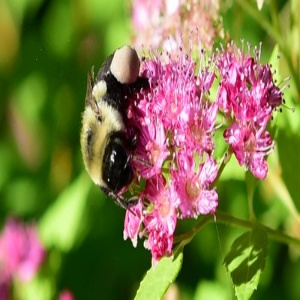bee: (78, 47, 165, 219)
